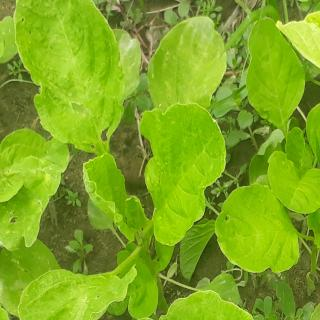karat_putih: (39, 270, 116, 318), (0, 209, 34, 309)
virus_keriting: (13, 0, 127, 150), (140, 108, 175, 214), (0, 161, 43, 203), (117, 282, 150, 320), (123, 190, 145, 230), (0, 0, 7, 110)
